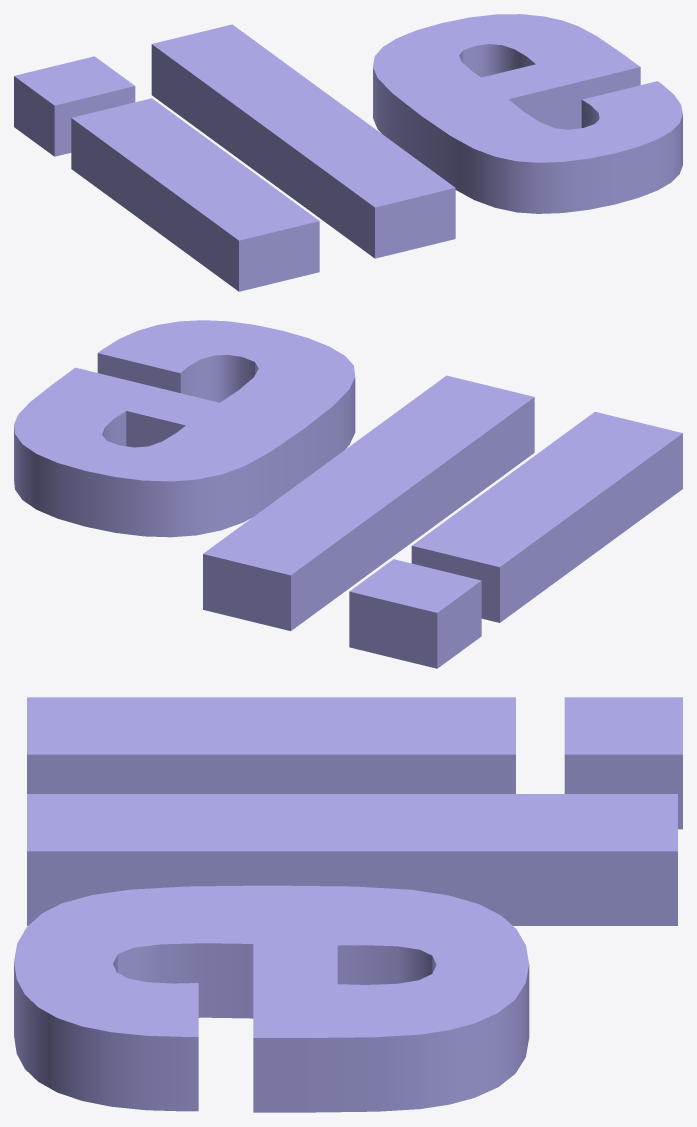
Rendered from art_text-ile_v01.gltf.
The picture shows the model from 3 angles, top to bottom: view 1: azimuth 30°, elevation 25°; view 2: azimuth 150°, elevation 25°; view 3: azimuth 270°, elevation 25°; orthographic projection. The views are drawn at different scales.
Parts seen in each view (by area): view 1: letter 3, letter 5, letter 2, letter 1, letter 4; view 2: letter 3, letter 5, letter 2, letter 1, letter 4; view 3: letter 3, letter 5, letter 2, letter 1, letter 4.
Part boxes in pixels (x1=…): letter 3: x1=373, y1=14, x2=682, y2=213; letter 5: x1=151, y1=24, x2=455, y2=258; letter 2: x1=71, y1=98, x2=319, y2=291; letter 1: x1=14, y1=56, x2=135, y2=156; letter 4: x1=459, y1=44, x2=535, y2=77; letter 3: x1=14, y1=320, x2=355, y2=537; letter 5: x1=203, y1=375, x2=534, y2=630; letter 2: x1=411, y1=412, x2=682, y2=622; letter 1: x1=349, y1=559, x2=481, y2=668; letter 4: x1=102, y1=411, x2=185, y2=447; letter 3: x1=14, y1=885, x2=529, y2=1112; letter 5: x1=27, y1=794, x2=677, y2=925; letter 2: x1=27, y1=697, x2=515, y2=793; letter 1: x1=564, y1=697, x2=682, y2=829; letter 4: x1=337, y1=945, x2=436, y2=984.
Bounding box in the file's own units: 4.9 × 0.5 × 4.07.
